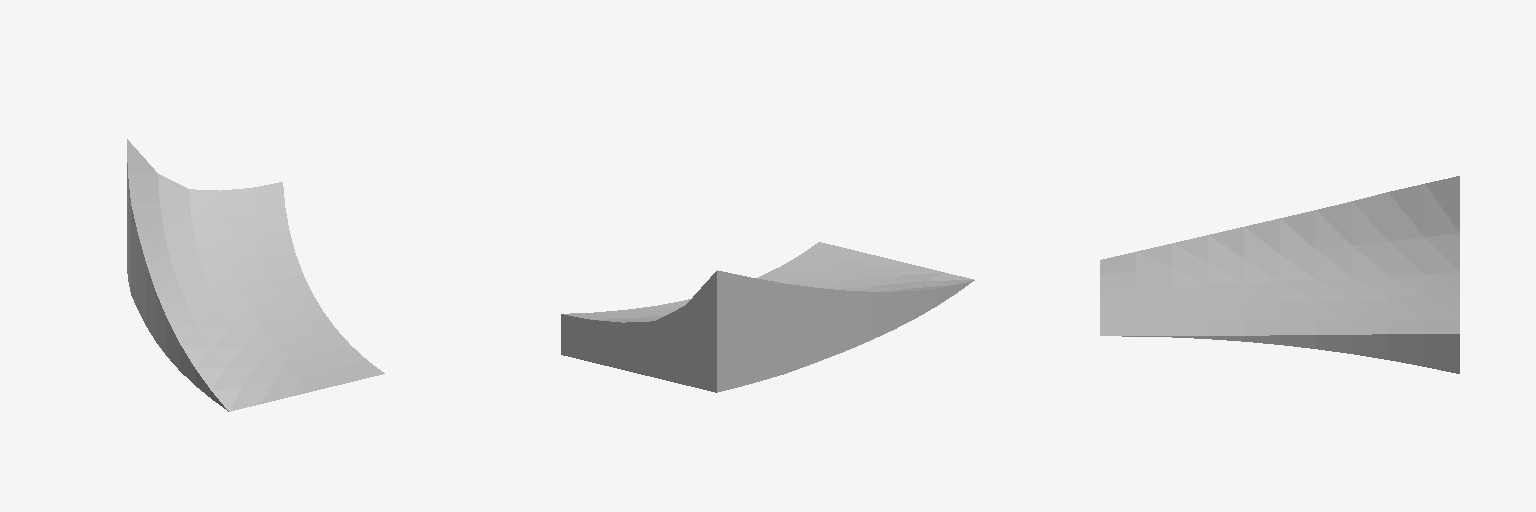
Rendered from curved_ramp_V6_L.obj.
The picture shows the model from 3 angles: view 1: azimuth 30°, elevation 25°; view 2: azimuth 150°, elevation 25°; view 3: azimuth 270°, elevation 25°; orthographic projection.
Parts seen in each view (by area): view 1: Plane.003_Plane.004; view 2: Plane.003_Plane.004; view 3: Plane.003_Plane.004.
Part boxes in pixels (x1,y1,x2,y2): Plane.003_Plane.004: (127,139,384,411); Plane.003_Plane.004: (561,242,974,392); Plane.003_Plane.004: (1100,176,1459,373).
Bounding box in the file's own units: 1.5 × 0.75 × 2.